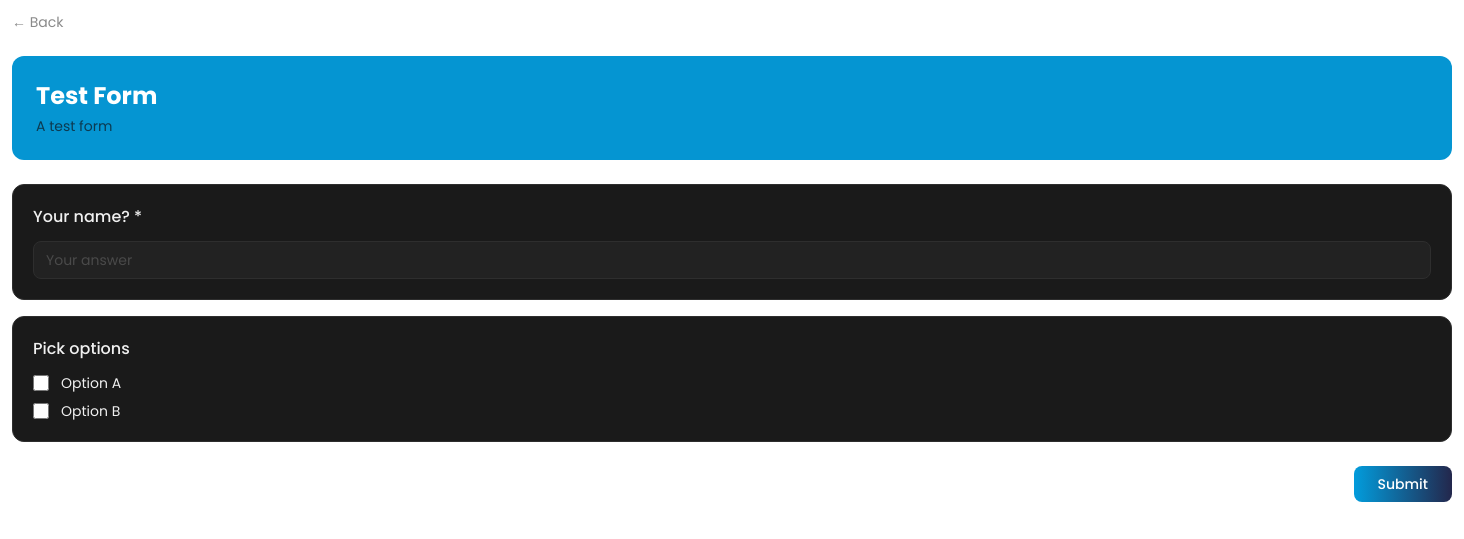
Test: FormFillerPage › validation › clears validation error when the field is filled
Click the button "Submit". click: coordinates (1403, 484)
box: x1=1354 y1=466 x2=1452 y2=502
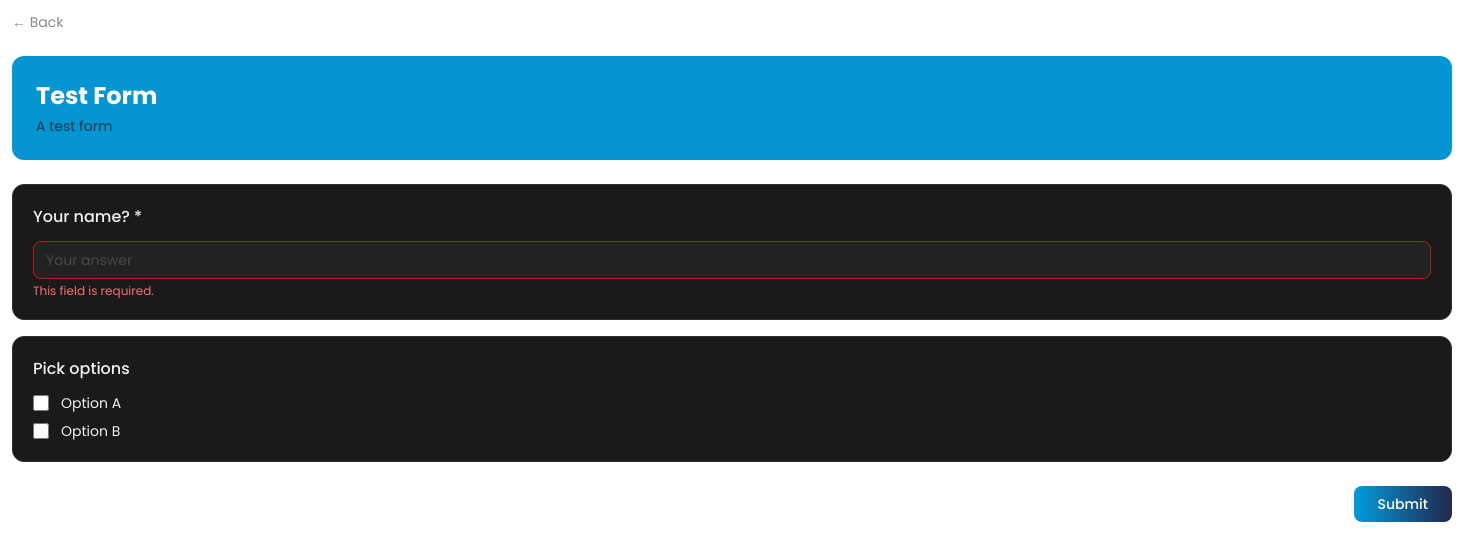
Check: the text "This field is required." is shown, box x1=33 y1=282 x2=154 y2=299
Type "John" into the field. click: coordinates (732, 260)
box: x1=33 y1=241 x2=1431 y2=279
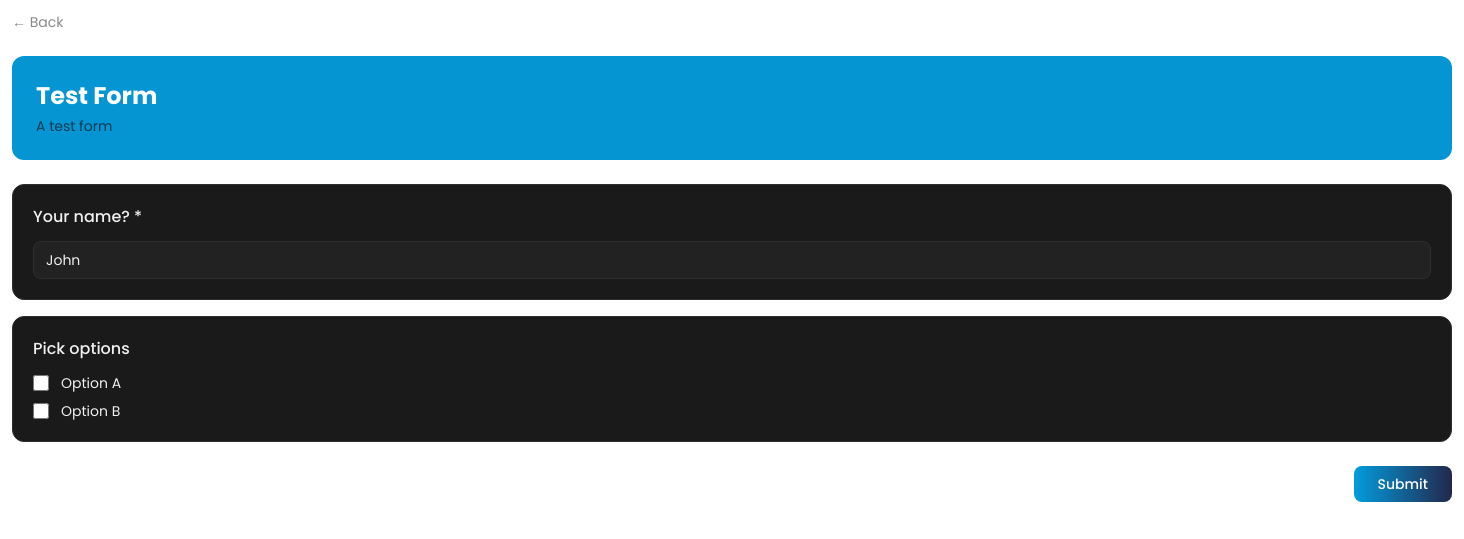
Check: the text "This field is required." is gone
